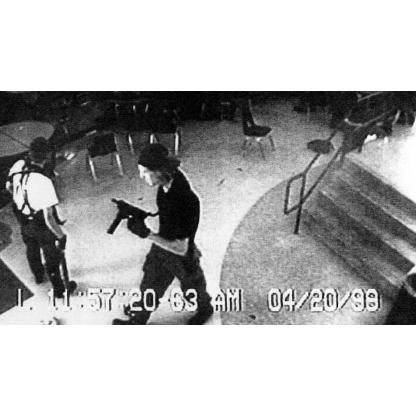gun: (107, 193, 154, 239)
